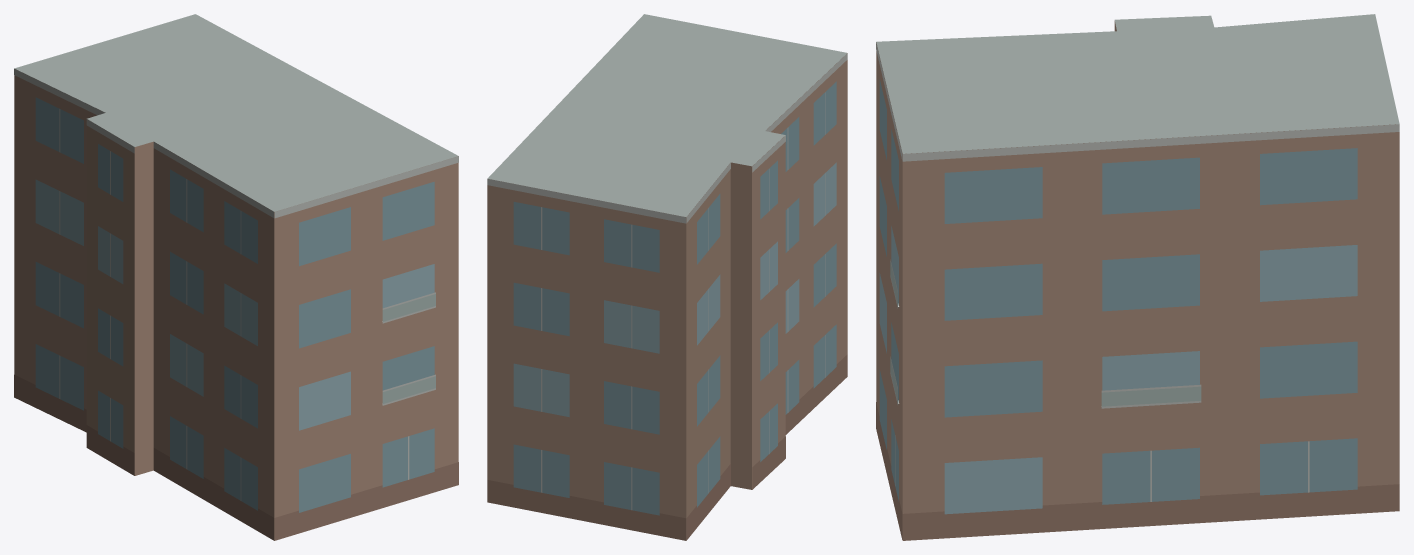
File: survey-upis-33040501.glb
3 views of the same model, side by side, from view 1: azimuth 30°, elevation 25°; view 2: azimuth 150°, elevation 25°; view 3: azimuth 270°, elevation 25° (orthographic). The views are drawn at different scales.
Parts seen in each view (by area): view 1: survey-upis-33040501.tmp; view 2: survey-upis-33040501.tmp; view 3: survey-upis-33040501.tmp.
Boxes of the visible parts, x1,y1,x2,y2 form: survey-upis-33040501.tmp: (14, 14, 458, 540); survey-upis-33040501.tmp: (487, 14, 847, 540); survey-upis-33040501.tmp: (876, 14, 1399, 540).
Bounding box in the file's own units: 9.47 × 12.2 × 14.97.
